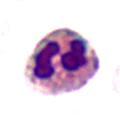eosi: (21, 28, 100, 95)
